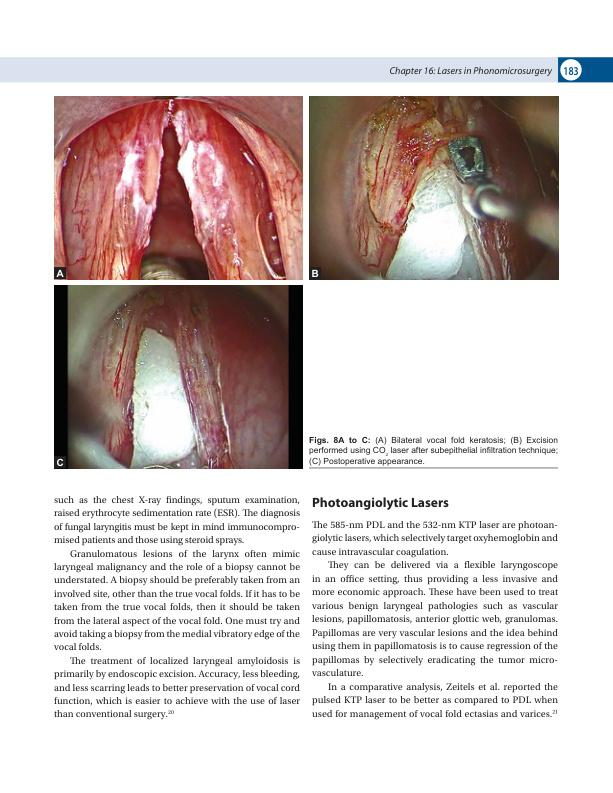caption: (308, 436, 560, 467), (55, 268, 65, 278), (55, 457, 65, 467), (311, 268, 320, 278)
header: (389, 65, 553, 77)
image: (308, 95, 560, 281), (53, 284, 304, 470), (53, 95, 303, 281)
sub-section-heading: (312, 496, 449, 511)
text: (52, 495, 300, 720), (311, 519, 559, 721)
